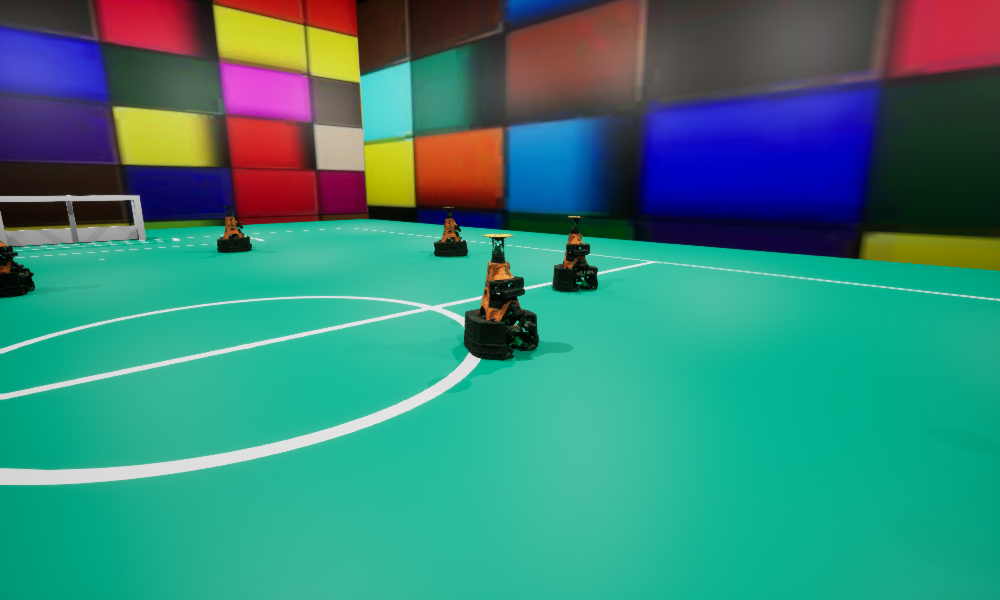0 orange robot TechUnited: (464, 234, 538, 360), (553, 216, 597, 291), (0, 240, 34, 297), (434, 207, 467, 256), (217, 206, 251, 252)
